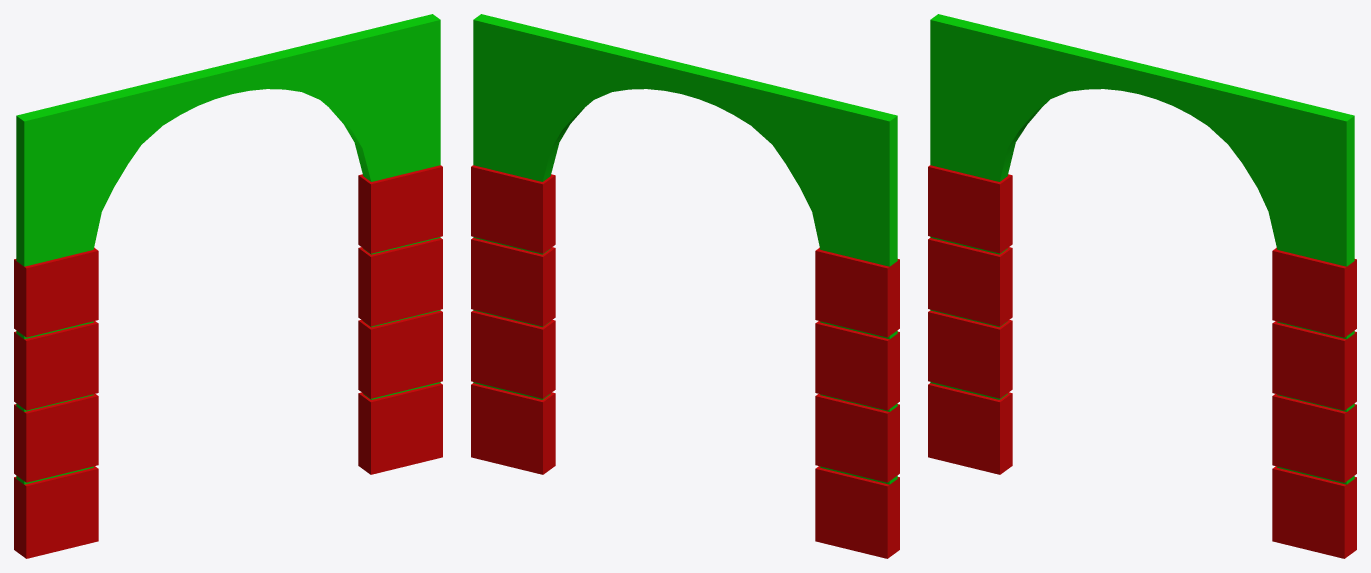
File: ArchBig_Nice.fbx
The picture shows the model from 3 angles, left to right: view 1: azimuth 30°, elevation 25°; view 2: azimuth 150°, elevation 25°; view 3: azimuth 330°, elevation 25°; orthographic projection.
Visible parts, largest first — view 1: Archeway_Big; view 2: Archeway_Big; view 3: Archeway_Big.
Part boxes in pixels (<box>): Archeway_Big: <box>14,14,442,558</box>; Archeway_Big: <box>471,14,899,558</box>; Archeway_Big: <box>928,14,1356,558</box>.
Bounding box in the file's own units: 900 × 900 × 46.57.
